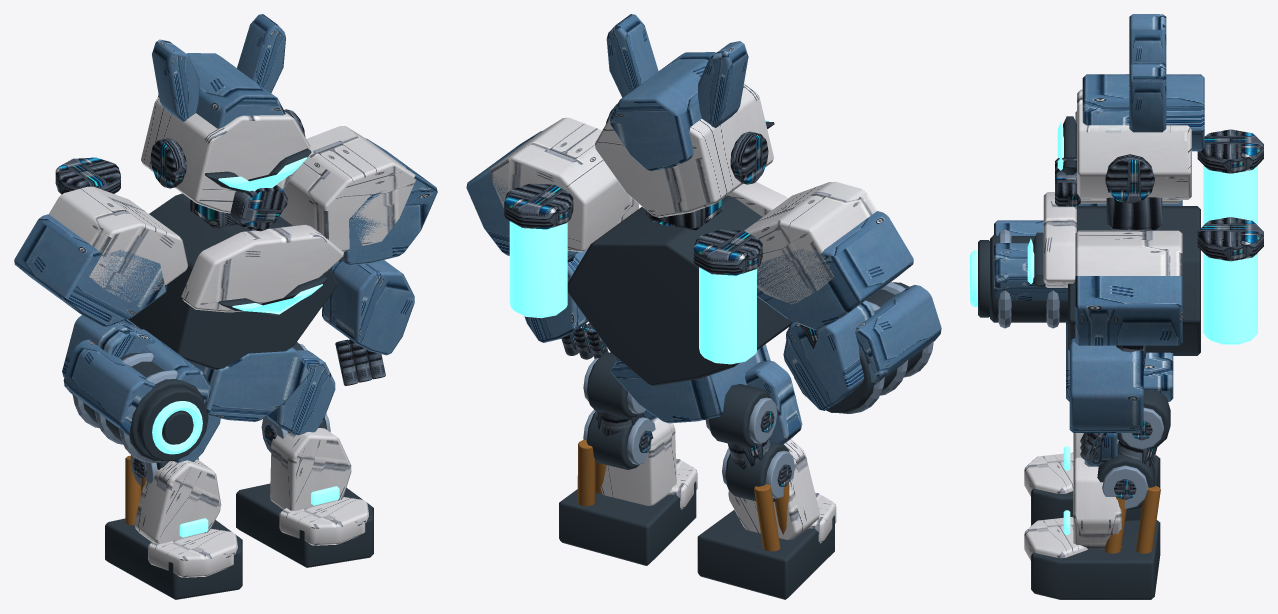
The model's file is scout.glb.
The picture shows the model from 3 angles, left to right: view 1: azimuth 30°, elevation 25°; view 2: azimuth 150°, elevation 25°; view 3: azimuth 270°, elevation 25°; orthographic projection. The views are drawn at different scales.
Visible parts, largest first — view 1: Navy crown, Cuirass yoke, Angular scout torso, Greave armor, Greave armor.001, Neck actuator, Servo housing.004, Servo housing.001, Recessed V optic, Tapered thigh shield.001, Bearing ring, Calf piston; view 2: Navy crown, Cuirass yoke, Angular scout torso, Servo housing.001, Servo housing.004, Biome pressure capsule, Neck actuator, Greave armor.001, Greave armor, Tapered thigh shield, Bearing ring.002, Calf piston (+5 smaller); view 3: Navy crown, Cuirass yoke, Neck actuator, Angular scout torso, Servo housing.004, Biome pressure capsule, Greave armor.001, Greave armor, Bearing ring.008, Calf piston.002, Servo housing.001, Hub.008 (+3 smaller).
Boxes of the visible parts, x1=… form: Navy crown: x1=14, y1=14, x2=437, y2=435; Cuirass yoke: x1=49, y1=97, x2=415, y2=312; Angular scout torso: x1=72, y1=148, x2=337, y2=461; Greave armor: x1=134, y1=459, x2=237, y2=577; Greave armor.001: x1=270, y1=428, x2=368, y2=545; Neck actuator: x1=55, y1=109, x2=385, y2=385; Servo housing.004: x1=236, y1=342, x2=373, y2=567; Servo housing.001: x1=105, y1=461, x2=242, y2=599; Recessed V optic: x1=152, y1=157, x2=322, y2=454; Tapered thigh shield.001: x1=267, y1=350, x2=335, y2=435; Bearing ring: x1=73, y1=353, x2=177, y2=463; Calf piston: x1=125, y1=455, x2=145, y2=525; Navy crown: x1=466, y1=14, x2=941, y2=423; Cuirass yoke: x1=489, y1=84, x2=876, y2=304; Angular scout torso: x1=567, y1=121, x2=922, y2=413; Servo housing.001: x1=697, y1=384, x2=834, y2=599; Servo housing.004: x1=559, y1=352, x2=696, y2=565; Biome pressure capsule: x1=509, y1=221, x2=756, y2=364; Neck actuator: x1=504, y1=103, x2=817, y2=359; Greave armor.001: x1=600, y1=417, x2=697, y2=509; Greave armor: x1=728, y1=439, x2=836, y2=543; Tapered thigh shield: x1=745, y1=360, x2=802, y2=444; Bearing ring.002: x1=705, y1=397, x2=794, y2=498; Calf piston: x1=754, y1=483, x2=789, y2=551; Navy crown: x1=994, y1=14, x2=1204, y2=432; Cuirass yoke: x1=1043, y1=89, x2=1191, y2=287; Neck actuator: x1=1055, y1=129, x2=1263, y2=461; Angular scout torso: x1=978, y1=116, x2=1200, y2=355; Servo housing.004: x1=1031, y1=390, x2=1170, y2=599; Biome pressure capsule: x1=1203, y1=165, x2=1257, y2=344; Greave armor.001: x1=1024, y1=457, x2=1121, y2=560; Greave armor: x1=1024, y1=433, x2=1118, y2=496; Bearing ring.008: x1=1102, y1=407, x2=1163, y2=509; Calf piston.002: x1=1104, y1=485, x2=1160, y2=553; Servo housing.001: x1=1031, y1=455, x2=1160, y2=525; Hub.008: x1=1114, y1=420, x2=1157, y2=499.
Size of the model in its own units: 1.17 by 1.52 by 0.7935.
Materials: 8 (3 with a texture image).
